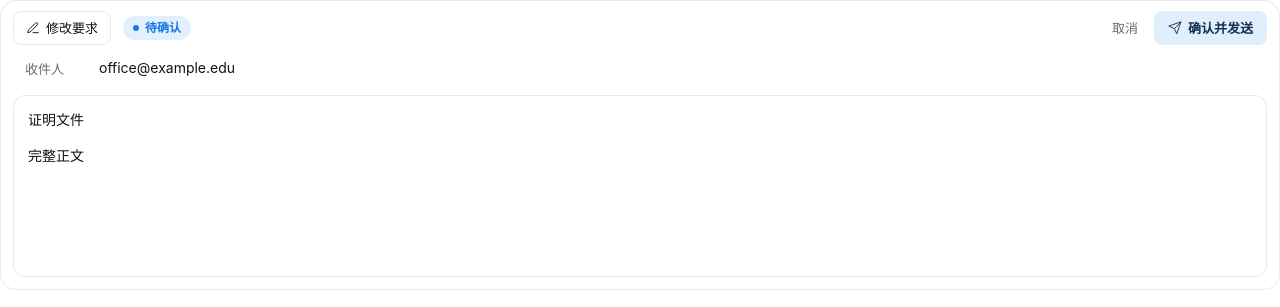
Test case: 修改要求按钮就地展开输入，发送绑定 operation_id 的新一轮对话
Click the button "修改要求": [62, 28] box [13,11,111,45]
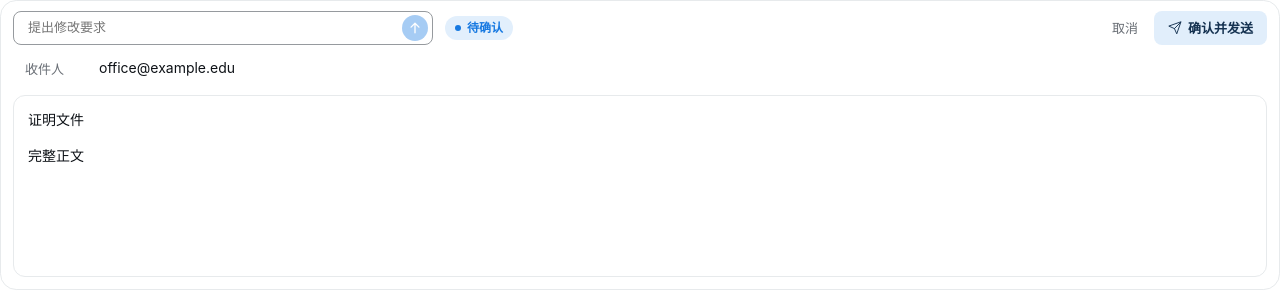
In the field named "针对这封邮件提出修改要求": [211, 28] box [26,17,396,39], type "语气更正式"
Then press Enter
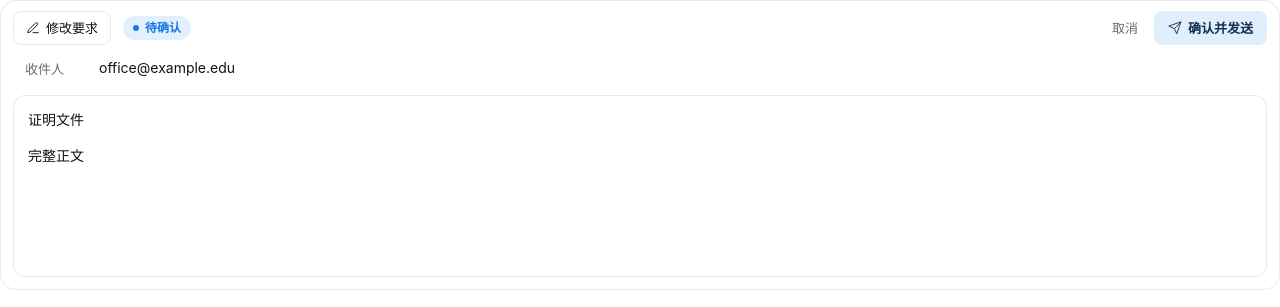
Expected: the field labelled "针对这封邮件提出修改要求" is gone
